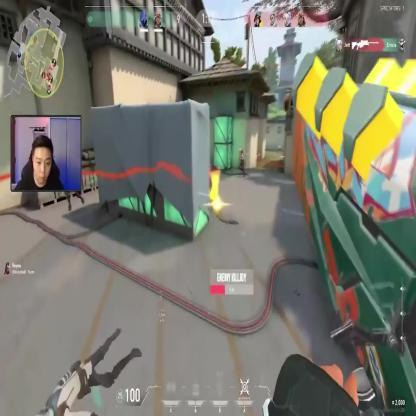enemy: (239, 146, 244, 174)
enemy_head: (240, 148, 243, 154)
